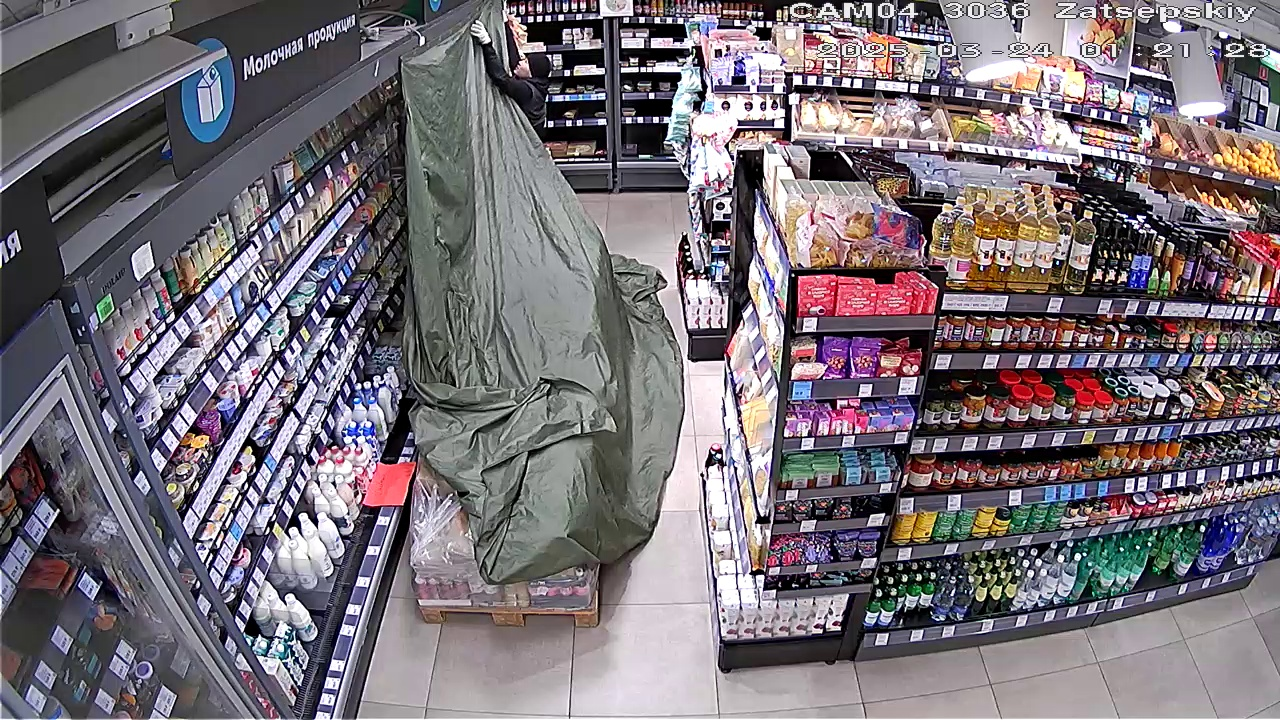Human: (468, 2, 559, 121)
dome: (400, 20, 683, 556)
